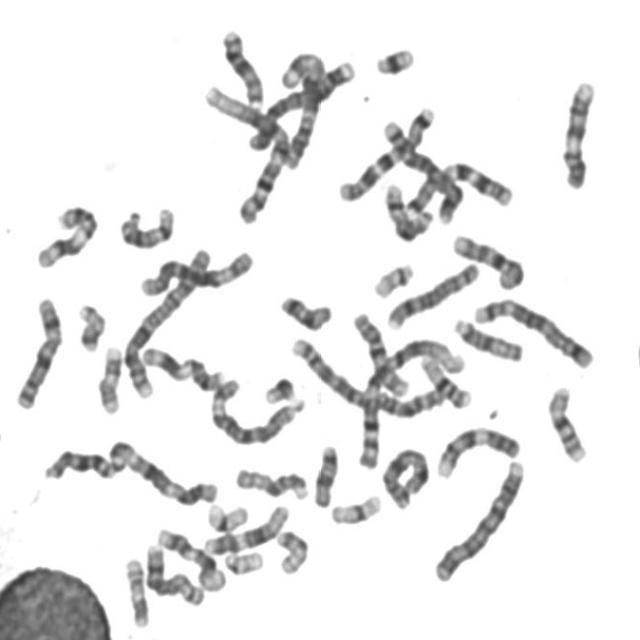A1: (351, 328, 469, 470), (198, 76, 294, 226)
A2: (117, 239, 215, 401), (286, 329, 451, 420)
A3: (104, 432, 221, 508), (276, 46, 328, 171)
B4: (428, 452, 529, 584), (241, 52, 359, 153)
B5: (376, 110, 466, 224), (469, 290, 597, 370)
C10: (349, 304, 413, 398), (447, 227, 527, 291)
C11: (29, 196, 102, 271), (138, 340, 228, 392)
C12: (200, 498, 292, 556), (153, 521, 228, 592)
C6: (205, 370, 306, 448), (135, 242, 256, 298)
C7: (332, 97, 439, 203), (401, 154, 516, 217)
C8: (382, 255, 482, 331), (140, 538, 208, 608)
C9: (432, 420, 525, 480), (557, 72, 600, 191)
D13: (215, 21, 267, 109), (39, 441, 121, 483)
D14: (380, 175, 437, 243), (115, 198, 177, 251)
D15: (449, 311, 526, 364), (231, 460, 312, 502)
E16: (542, 378, 592, 465), (416, 349, 476, 410)
E17: (120, 550, 153, 630), (92, 338, 125, 416)
E18: (274, 288, 336, 333), (308, 436, 342, 509)
F19: (326, 487, 384, 527), (202, 496, 251, 534)
F20: (272, 523, 312, 577), (73, 296, 109, 353)
G21: (369, 38, 419, 77), (259, 368, 301, 406)
G22: (368, 255, 417, 300), (219, 544, 267, 577)
X: (9, 289, 66, 411), (377, 441, 433, 511)
